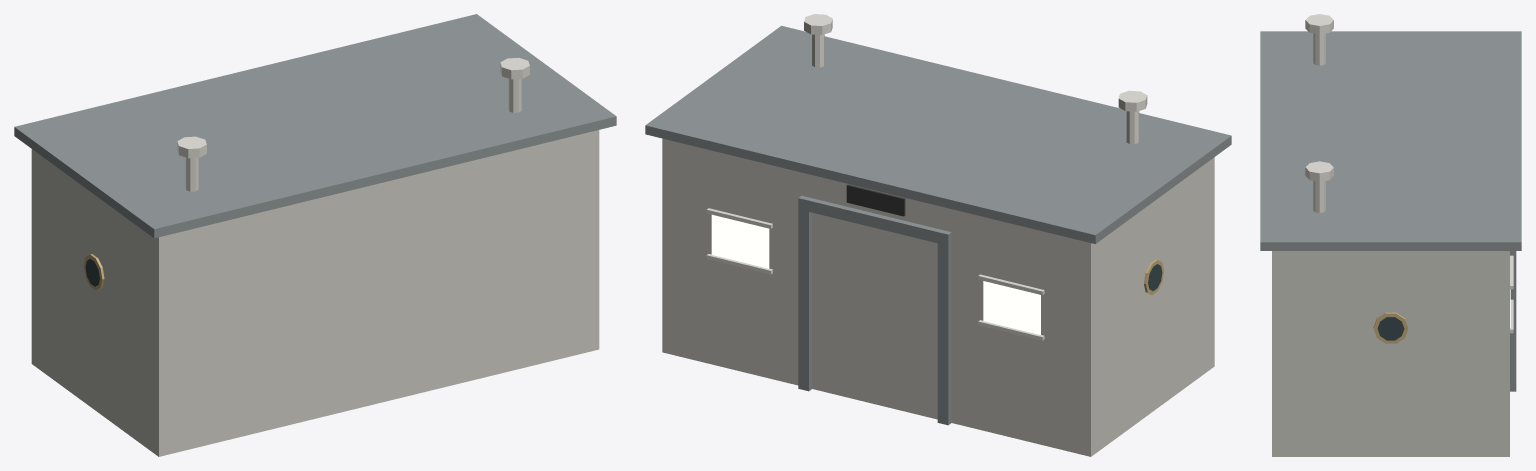
The model's file is ext_forecastle_cabin.fbx.
The picture shows the model from 3 angles, left to right: view 1: azimuth 30°, elevation 25°; view 2: azimuth 150°, elevation 25°; view 3: azimuth 270°, elevation 25°; orthographic projection. The views are drawn at different scales.
Parts seen in each view (by area): view 1: ext_forecastle_cabin; view 2: ext_forecastle_cabin; view 3: ext_forecastle_cabin.
Part boxes in pixels (x1=…): ext_forecastle_cabin: x1=14, y1=14, x2=616, y2=456; ext_forecastle_cabin: x1=645, y1=14, x2=1231, y2=456; ext_forecastle_cabin: x1=1260, y1=14, x2=1521, y2=456.
Bounding box in the file's own units: 6.3 × 3.66 × 3.3.
